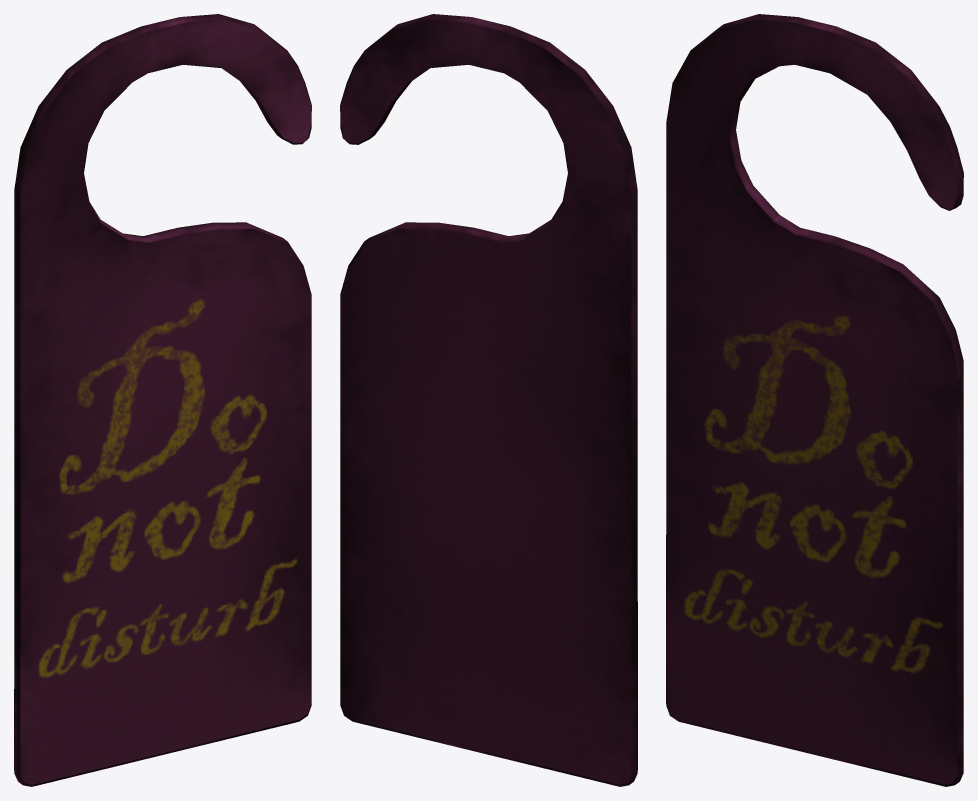
Rendered from DoNotDisturb.fbx.
The picture shows the model from 3 angles, left to right: view 1: azimuth 30°, elevation 25°; view 2: azimuth 150°, elevation 25°; view 3: azimuth 330°, elevation 25°; orthographic projection.
Visible parts, largest first — view 1: Plane.003; view 2: Plane.003; view 3: Plane.003.
Boxes of the visible parts, x1,y1,x2,y2 form: Plane.003: [14, 14, 311, 786]; Plane.003: [340, 14, 637, 786]; Plane.003: [666, 14, 963, 786].
Bounding box in the file's own units: 36.38 × 86.66 × 1.36.
